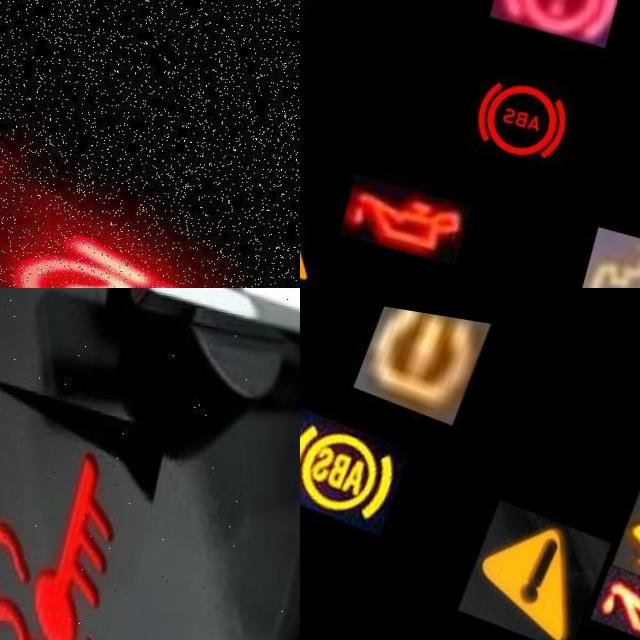Central Warning lamp: (464, 487, 621, 640), (300, 148, 359, 288)
Electronic Power Steering: (0, 153, 235, 288)
